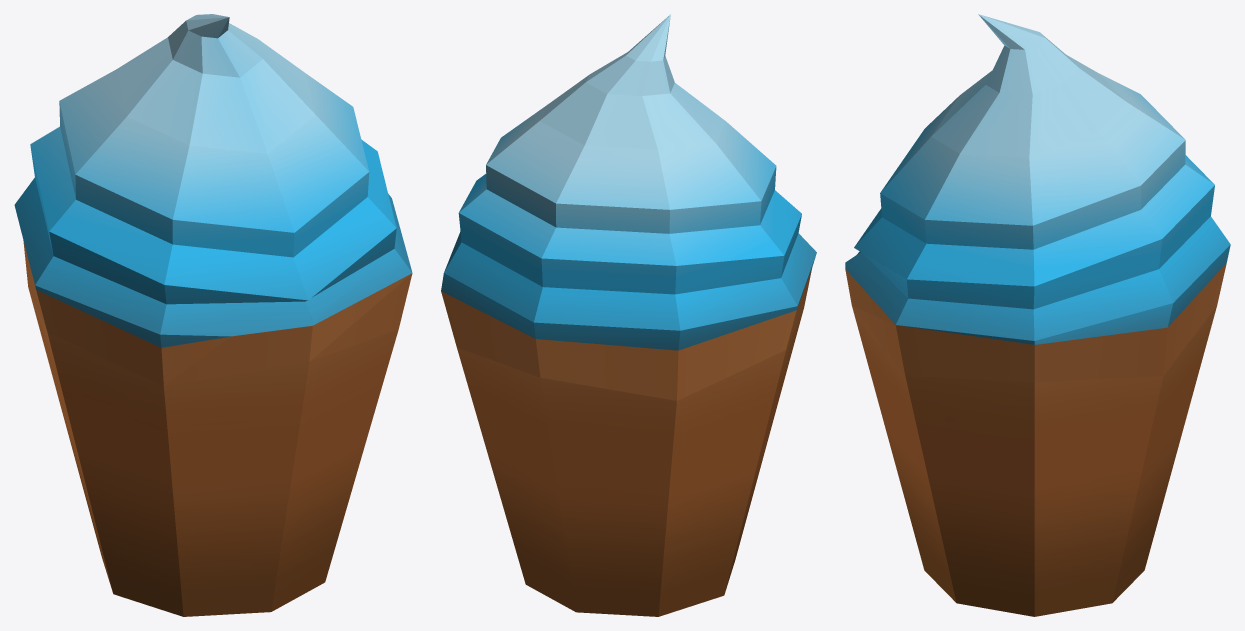
File: Cupcake.glb
The picture shows the model from 3 angles, left to right: view 1: azimuth 30°, elevation 25°; view 2: azimuth 150°, elevation 25°; view 3: azimuth 270°, elevation 25°; orthographic projection. The views are drawn at different scales.
Visible parts, largest first — view 1: Cupcake; view 2: Cupcake; view 3: Cupcake.
Boxes of the visible parts, left/top/right/bottom form: Cupcake: left=14, top=14, right=412, bottom=616; Cupcake: left=441, top=14, right=816, bottom=616; Cupcake: left=845, top=14, right=1230, bottom=616.
Bounding box in the file's own units: 0.6356 × 0.9829 × 0.6243.
1 material, 1 textured.
